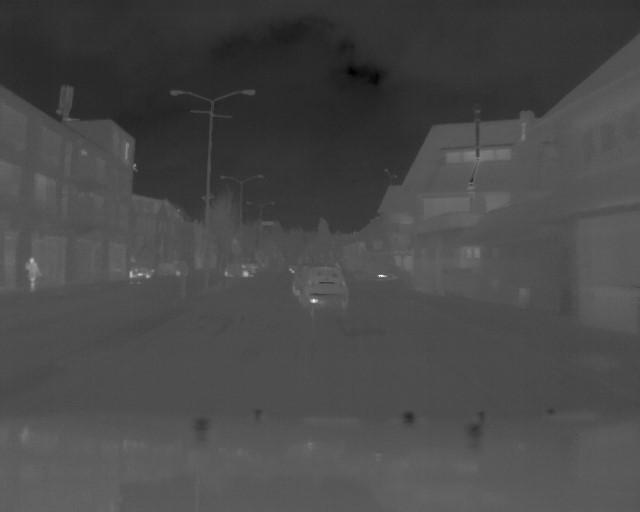car: (296, 263, 351, 310), (157, 257, 191, 278), (224, 261, 255, 279), (130, 260, 156, 281)
person: (20, 252, 40, 292)
